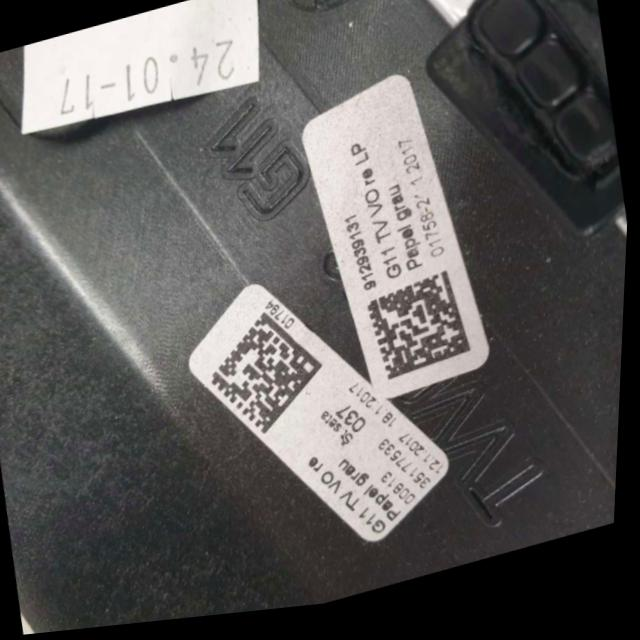datamatrix: (203, 303, 338, 453), (365, 275, 479, 393)
